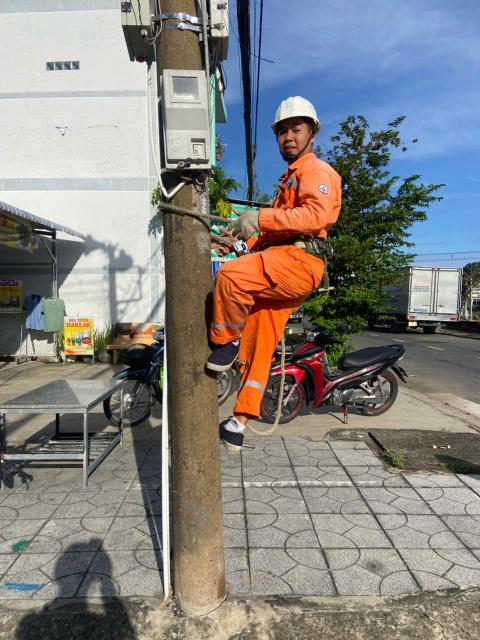gloves: (211, 215, 243, 259), (224, 212, 276, 237)
harness: (248, 223, 347, 269)
helmet: (254, 92, 324, 142)
shoes: (198, 321, 245, 378), (208, 399, 247, 456)
